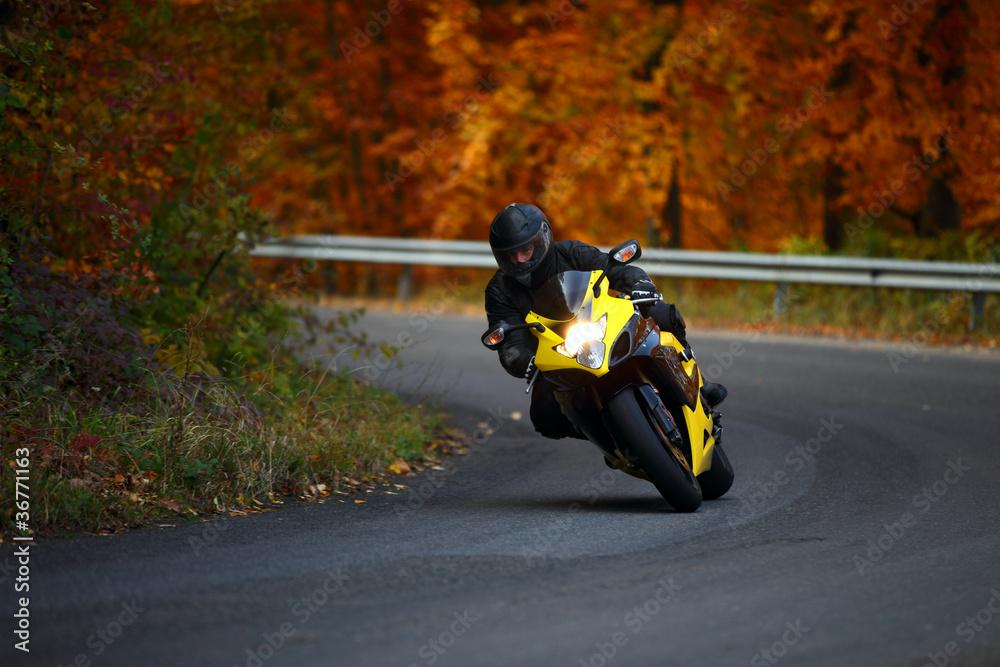helmet: (487, 201, 557, 290)
